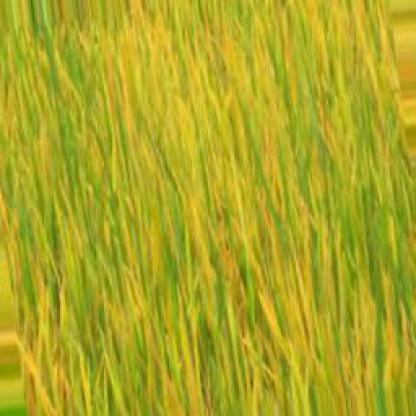Tungro: (3, 3, 416, 411)
